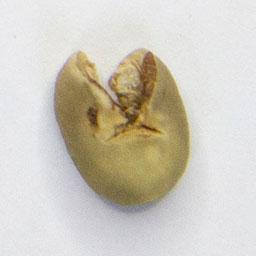defect: (49, 45, 193, 210)
